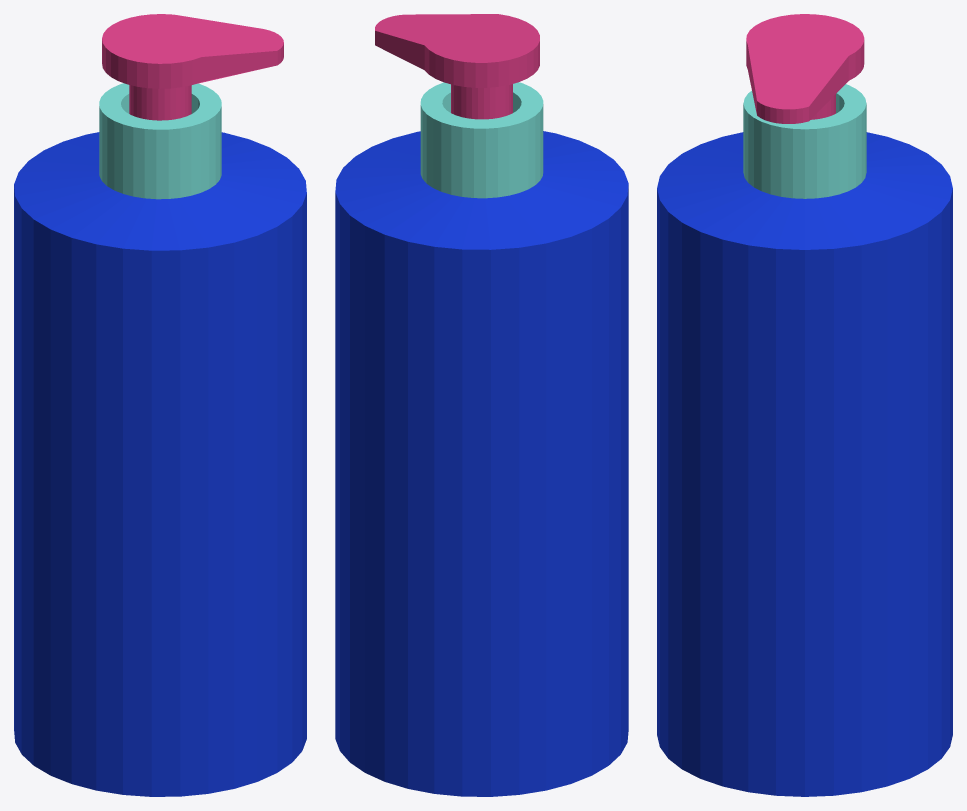
Rendered from sabun.fbx.
The picture shows the model from 3 angles, left to right: view 1: azimuth 30°, elevation 25°; view 2: azimuth 150°, elevation 25°; view 3: azimuth 270°, elevation 25°; orthographic projection.
Visible parts, largest first — view 1: Bottle, Cover, Head, Neck; view 2: Bottle, Cover, Head, Neck; view 3: Bottle, Head, Cover.
Part boxes in pixels (x1,y1,x2,y2): Bottle: (14, 132, 306, 796); Cover: (99, 83, 221, 199); Head: (102, 14, 283, 88); Neck: (129, 85, 191, 120); Bottle: (335, 131, 628, 796); Cover: (420, 82, 543, 198); Head: (375, 14, 539, 87); Neck: (451, 84, 512, 119); Bottle: (657, 132, 952, 796); Head: (746, 14, 864, 123); Cover: (743, 84, 866, 198).
Bounding box in the file's own units: 1.98 × 5.19 × 2.
